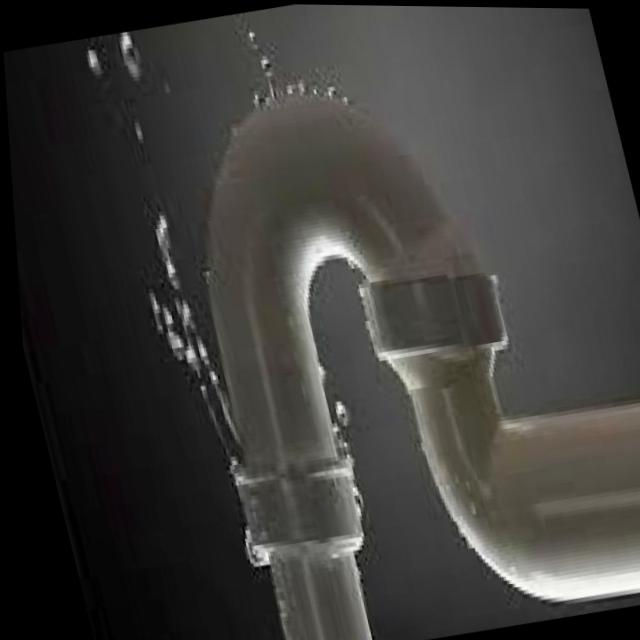leak: (69, 32, 274, 576)
